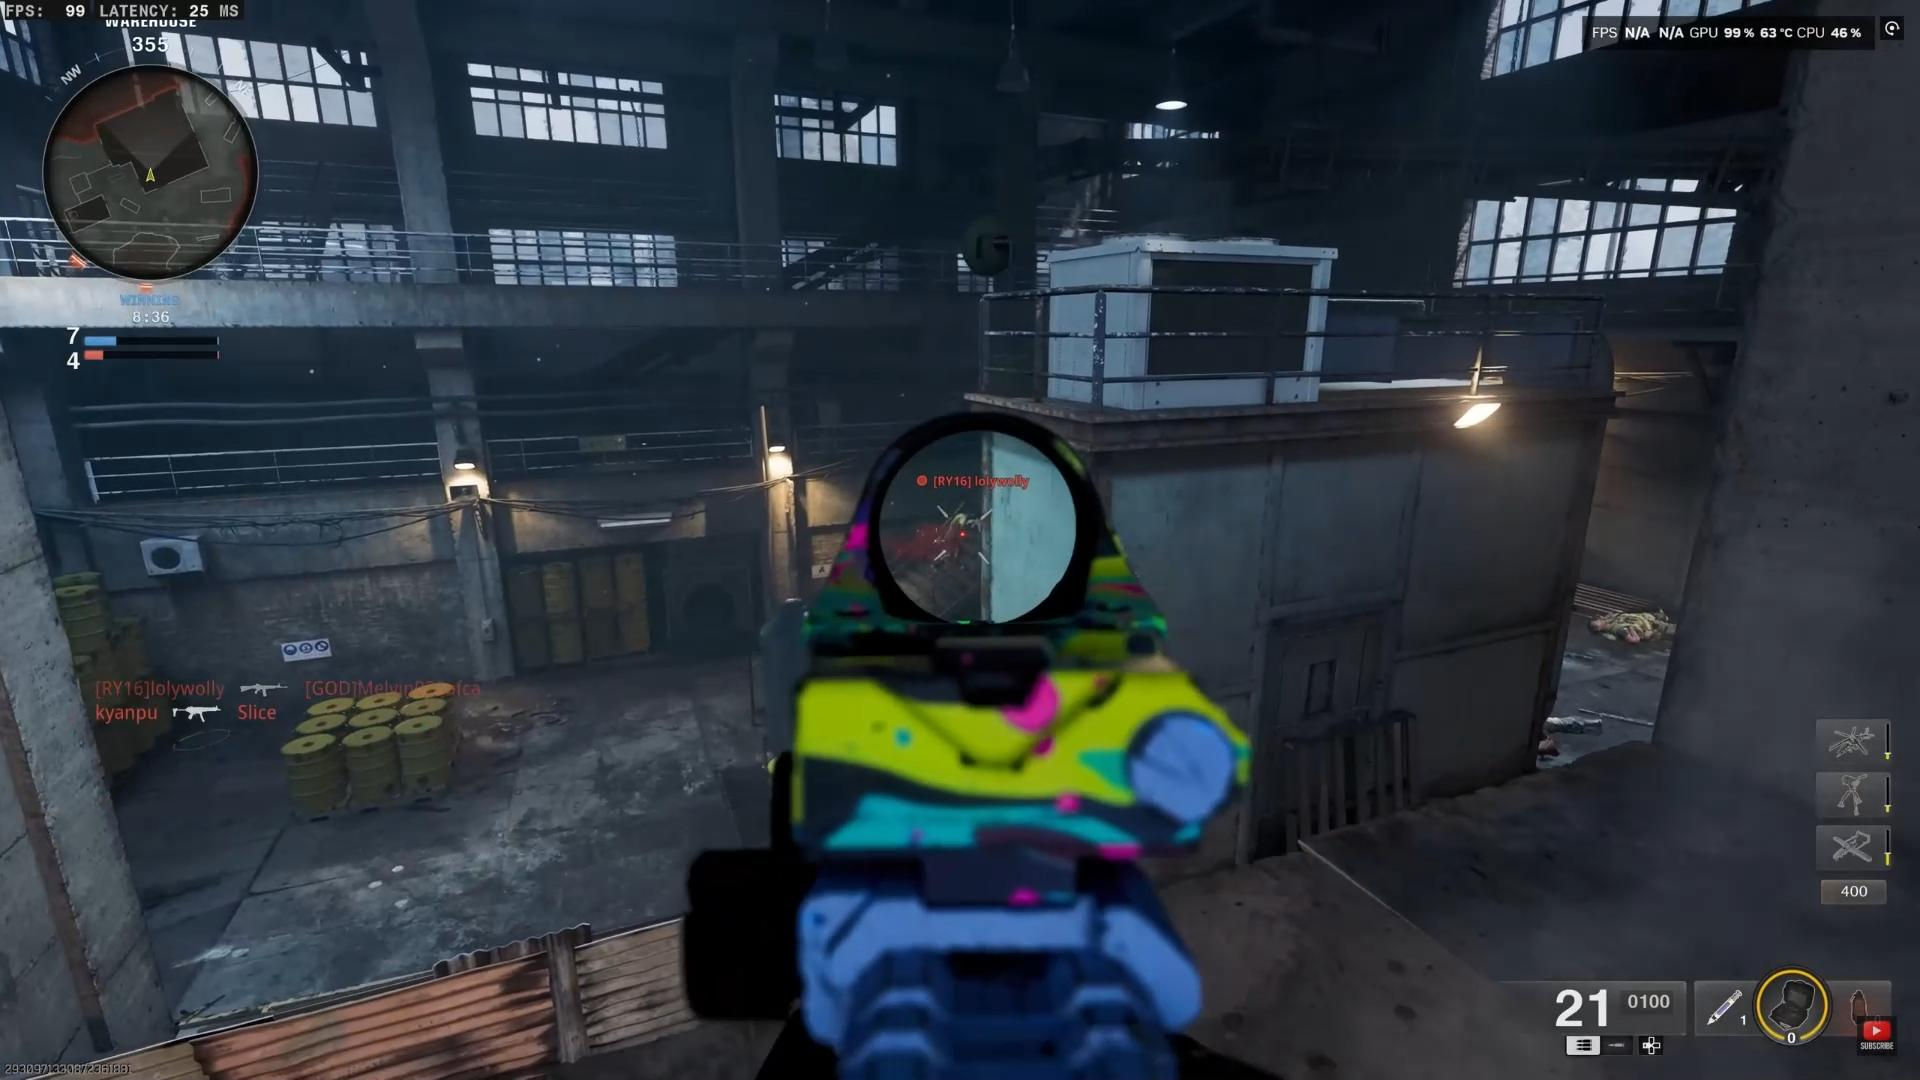Enemy: (927, 492, 994, 576)
